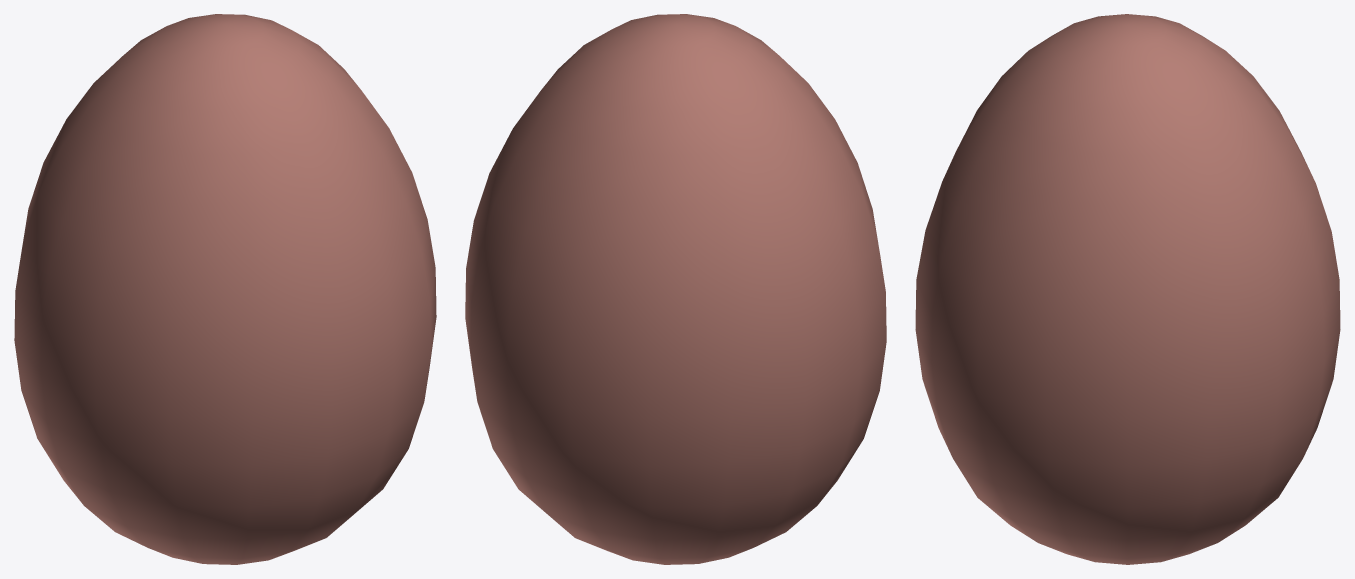
Rendered from egg_whole_model.fbx.
The picture shows the model from 3 angles, left to right: view 1: azimuth 30°, elevation 25°; view 2: azimuth 150°, elevation 25°; view 3: azimuth 270°, elevation 25°; orthographic projection.
Visible parts, largest first — view 1: egg; view 2: egg; view 3: egg.
Boxes of the visible parts, bbox=[...] form: egg: bbox=[14, 14, 436, 564]; egg: bbox=[465, 14, 886, 564]; egg: bbox=[915, 14, 1340, 564].
Bounding box in the file's own units: 5.51 × 7.46 × 5.51.
